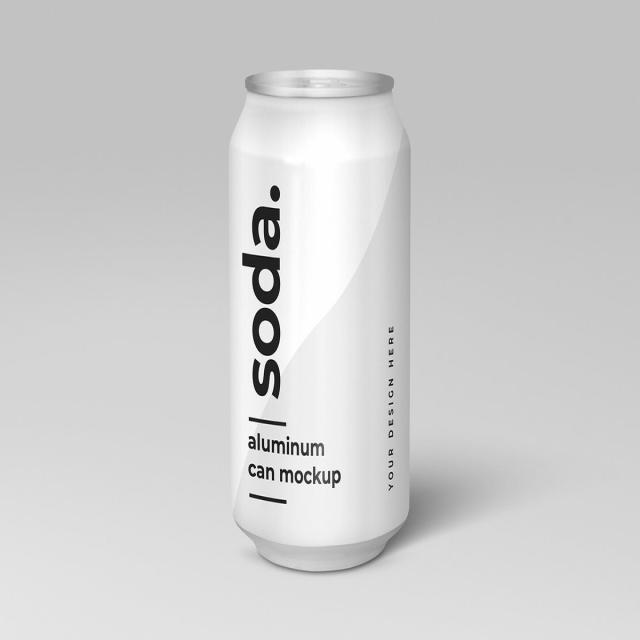can: (222, 70, 410, 581)
